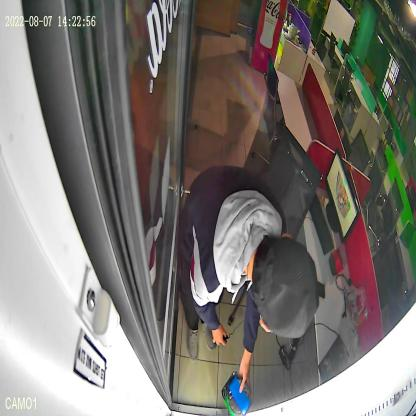blue: (228, 376, 252, 414)
green: (221, 371, 247, 416)
